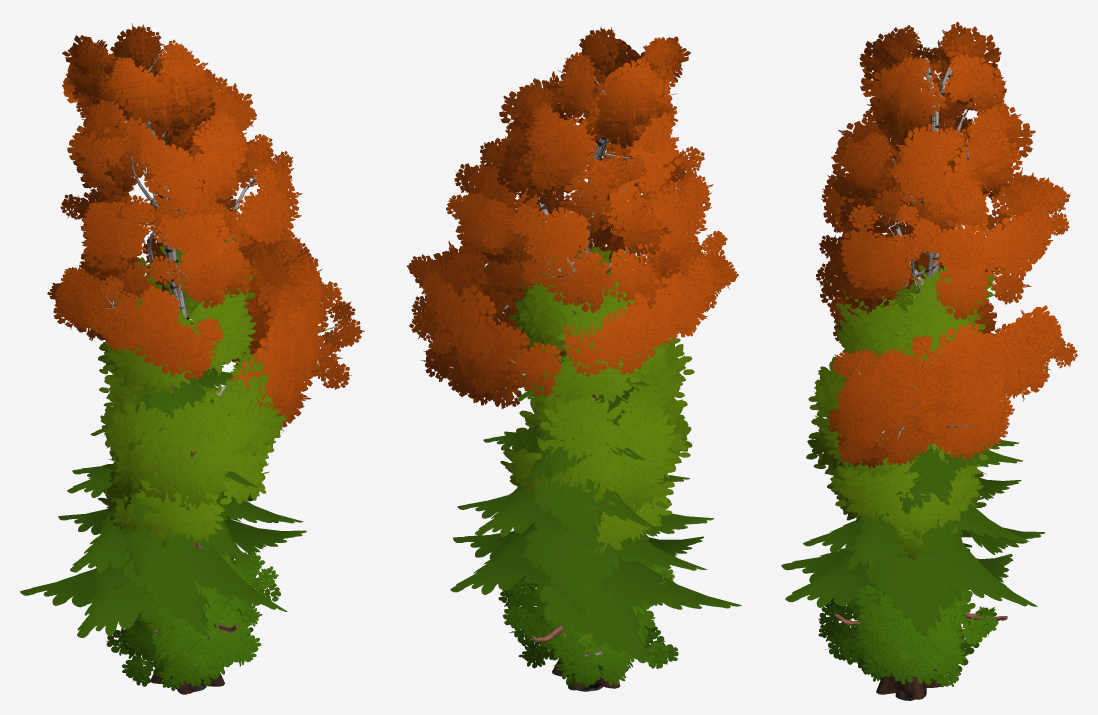
File: nature.glb
The picture shows the model from 3 angles, left to right: view 1: azimuth 30°, elevation 25°; view 2: azimuth 150°, elevation 25°; view 3: azimuth 270°, elevation 25°; orthographic projection. The views are drawn at different scales.
Visible parts, largest first — view 1: Birch_2, Pine_2, CommonTree_3, Bush_Large, CommonTree_5; view 2: Birch_2, Pine_2, CommonTree_3, CommonTree_5, Bush_Large; view 3: Birch_2, Pine_2, CommonTree_3, Bush_Large, CommonTree_5.
Boxes of the visible parts, x1=… form: Birch_2: x1=47, y1=23, x2=364, y2=692; Pine_2: x1=20, y1=363, x2=306, y2=637; CommonTree_3: x1=98, y1=231, x2=289, y2=694; Bush_Large: x1=106, y1=552, x2=280, y2=690; CommonTree_5: x1=98, y1=365, x2=274, y2=693; Birch_2: x1=407, y1=26, x2=738, y2=691; Pine_2: x1=450, y1=352, x2=741, y2=665; CommonTree_3: x1=500, y1=225, x2=694, y2=690; CommonTree_5: x1=516, y1=345, x2=690, y2=689; Bush_Large: x1=498, y1=564, x2=678, y2=687; Birch_2: x1=816, y1=21, x2=1077, y2=700; Pine_2: x1=781, y1=343, x2=1044, y2=637; CommonTree_3: x1=806, y1=263, x2=998, y2=699; Bush_Large: x1=818, y1=565, x2=998, y2=687; CommonTree_5: x1=813, y1=395, x2=1001, y2=694.
Size of the model in its own units: 6.68 by 13.53 by 5.89.
9 materials, 9 textured.
